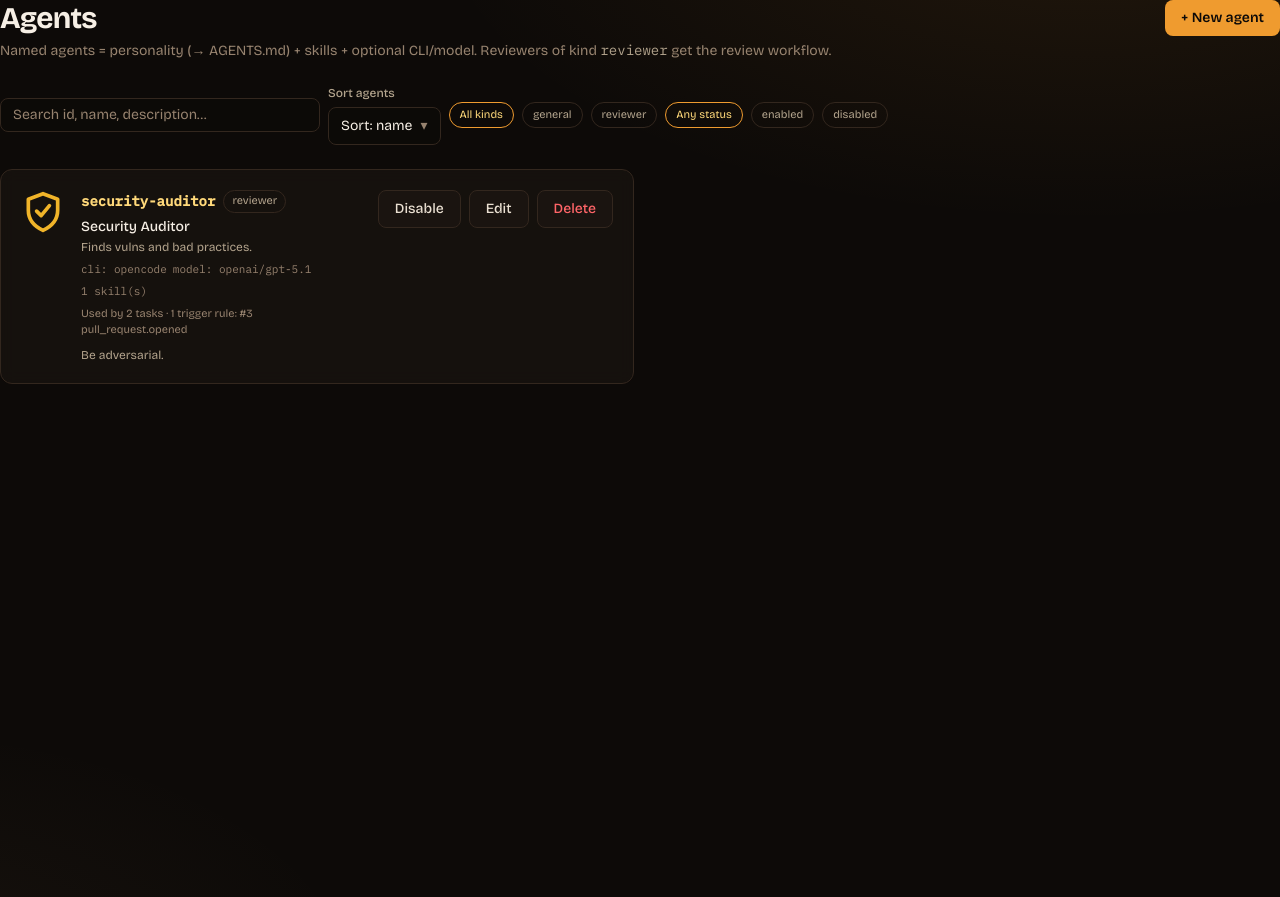
Test: Agents › refetches the Model dropdown when the CLI override changes
Expected: the text "security-auditor" is shown, [81,191,215,211]
Click the button "+ New agent".
click(1223, 18)  # box [1165,0,1279,36]
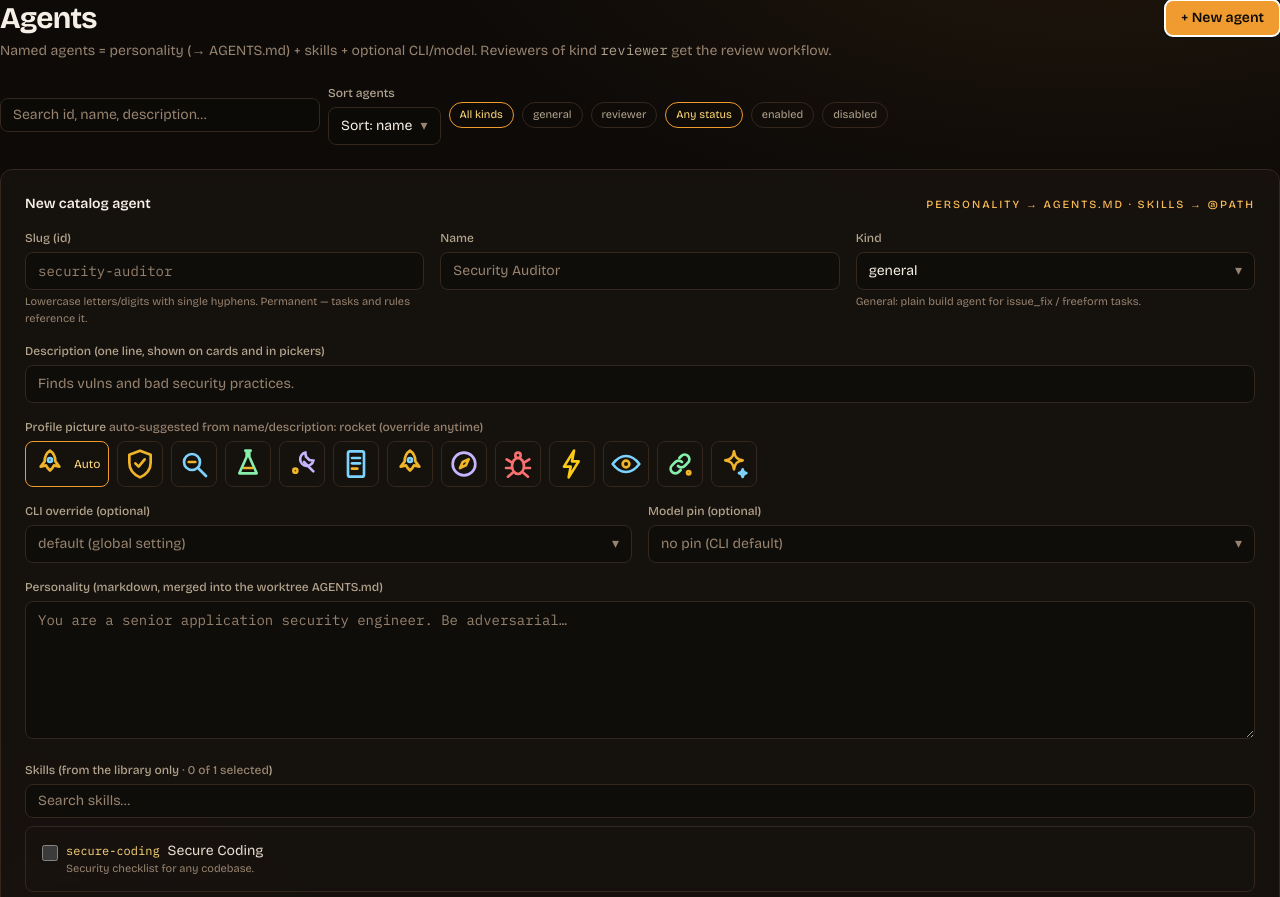
Click the button with aria-label "Model pin (optional)".
click(722, 544)  # box [648,525,1255,563]
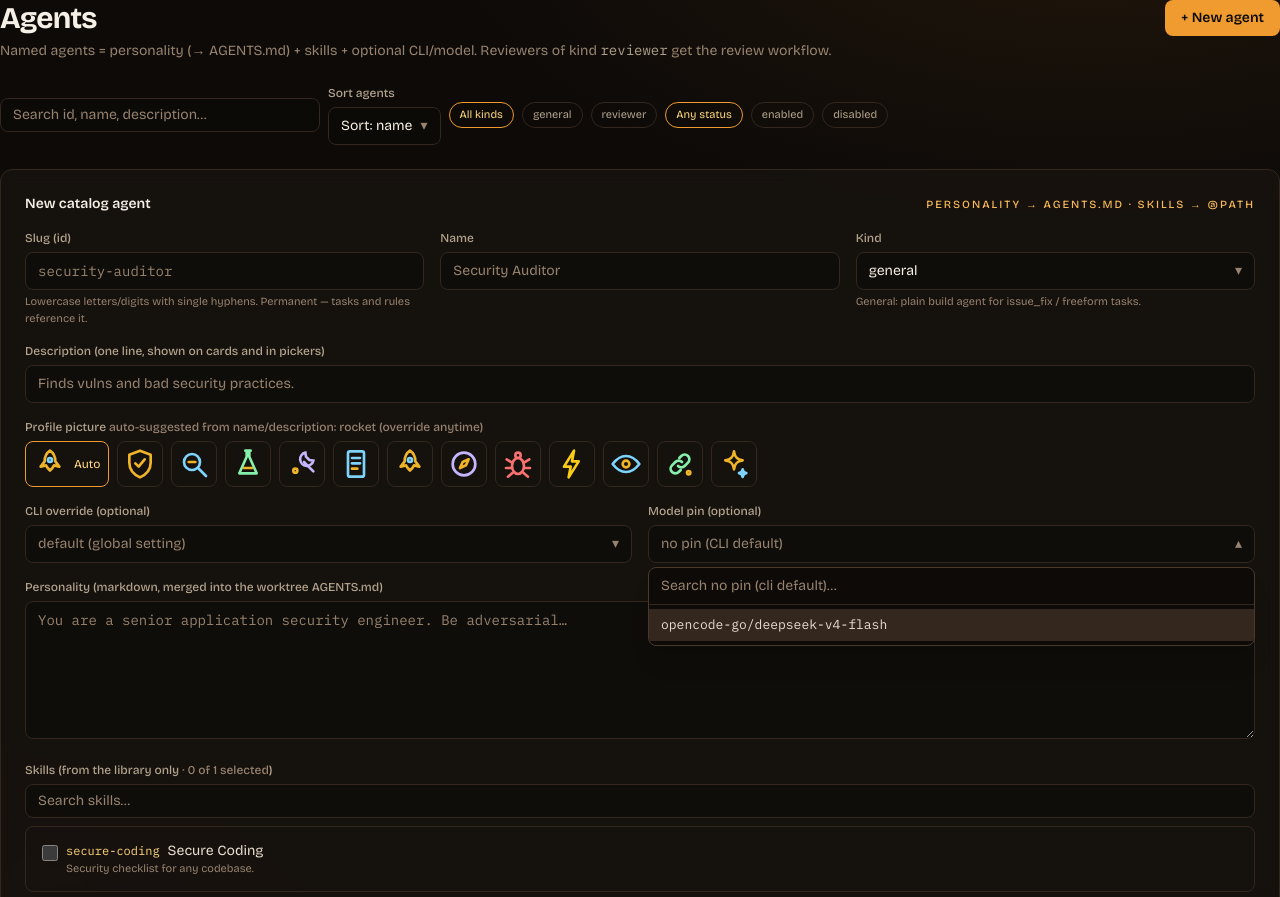
Result: the option "opencode-go/deepseek-v4-flash" is shown at [649,609,1254,640]
Click the button with aria-label "CLI override (optional)".
click(112, 544)  # box [25,525,632,563]
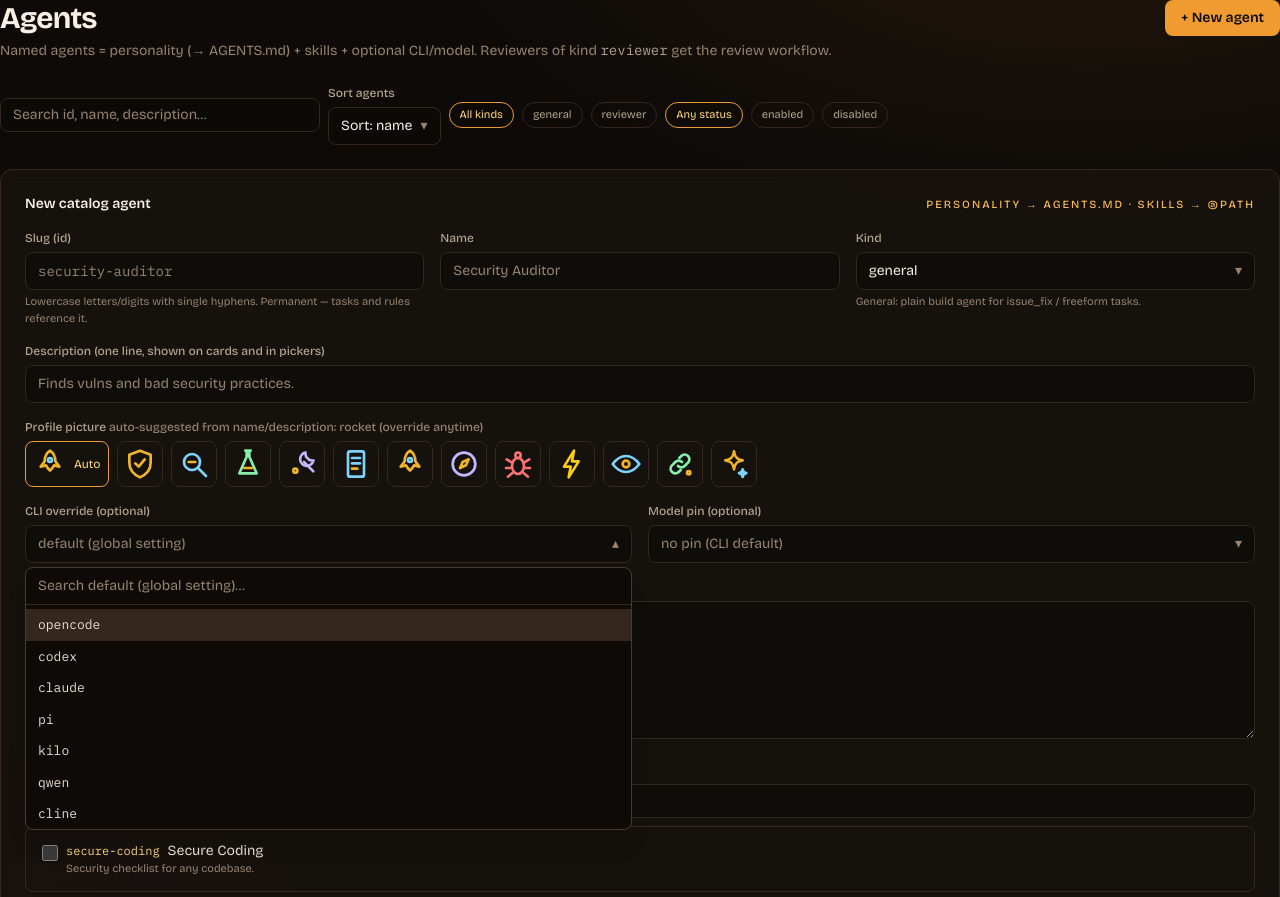
Type "codex" into the dropdown.
click(328, 586); type("codex")  # box [26,568,631,605]
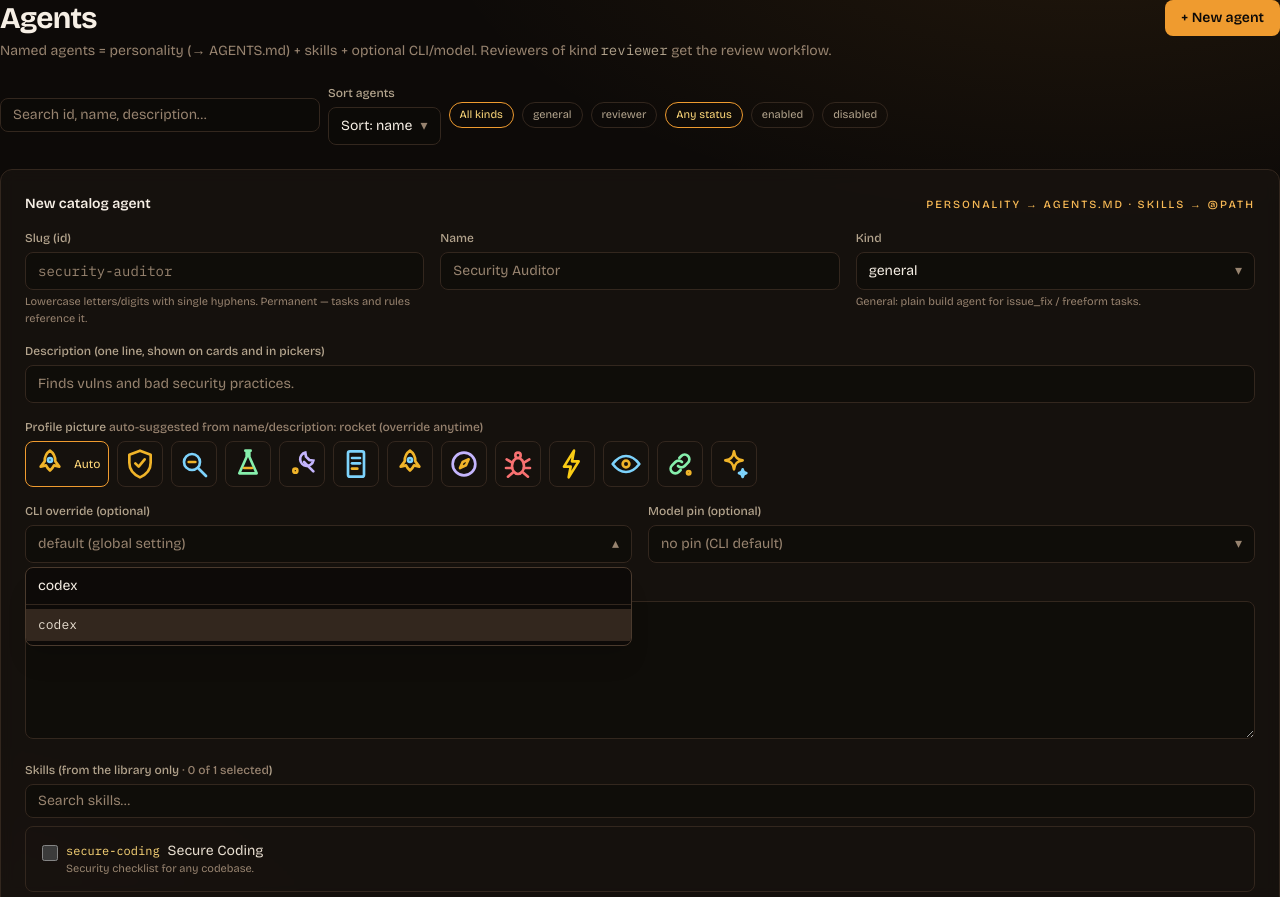
Click the option "codex".
click(58, 624)  # box [26,609,631,640]
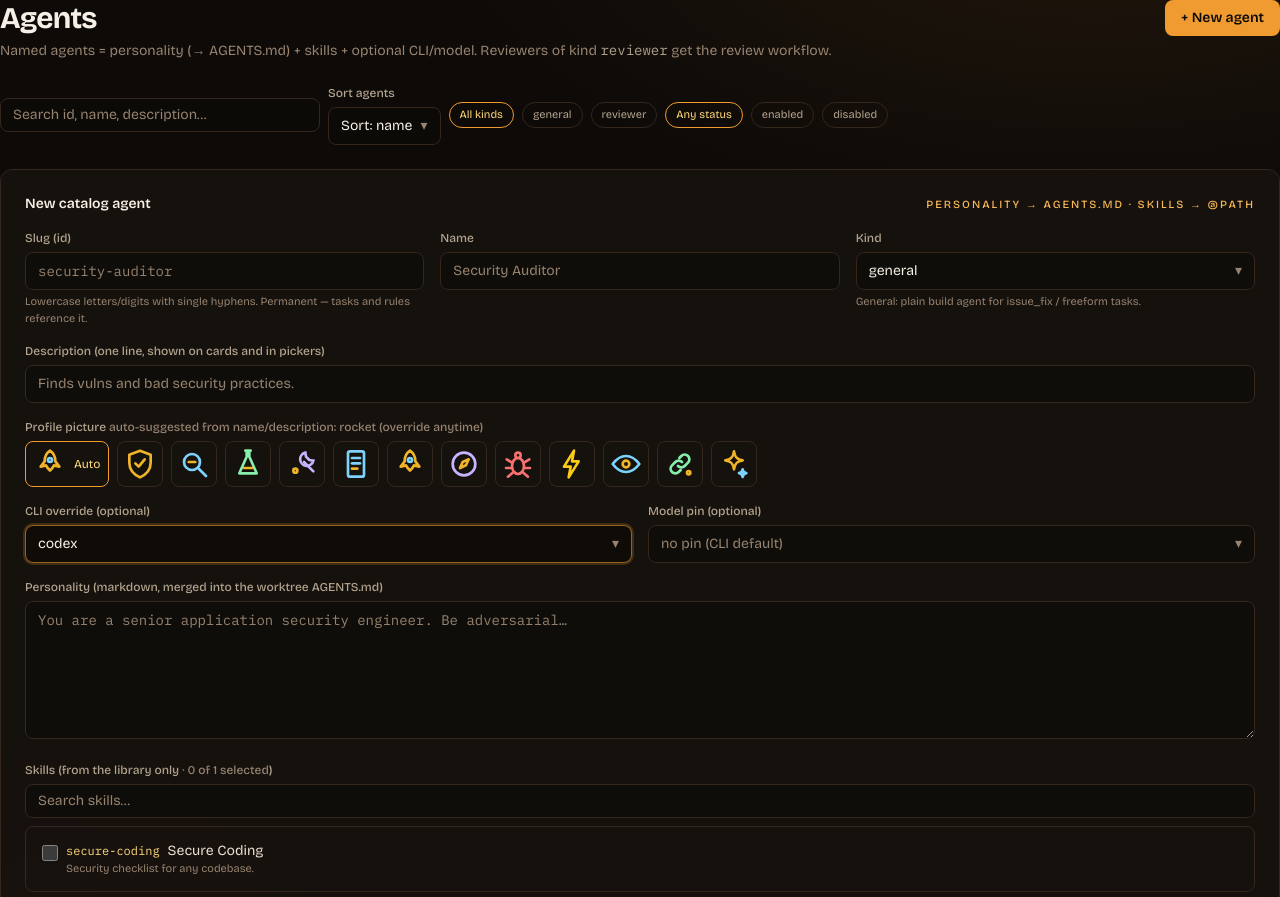
Click the button with aria-label "Model pin (optional)".
click(722, 544)  # box [648,525,1255,563]
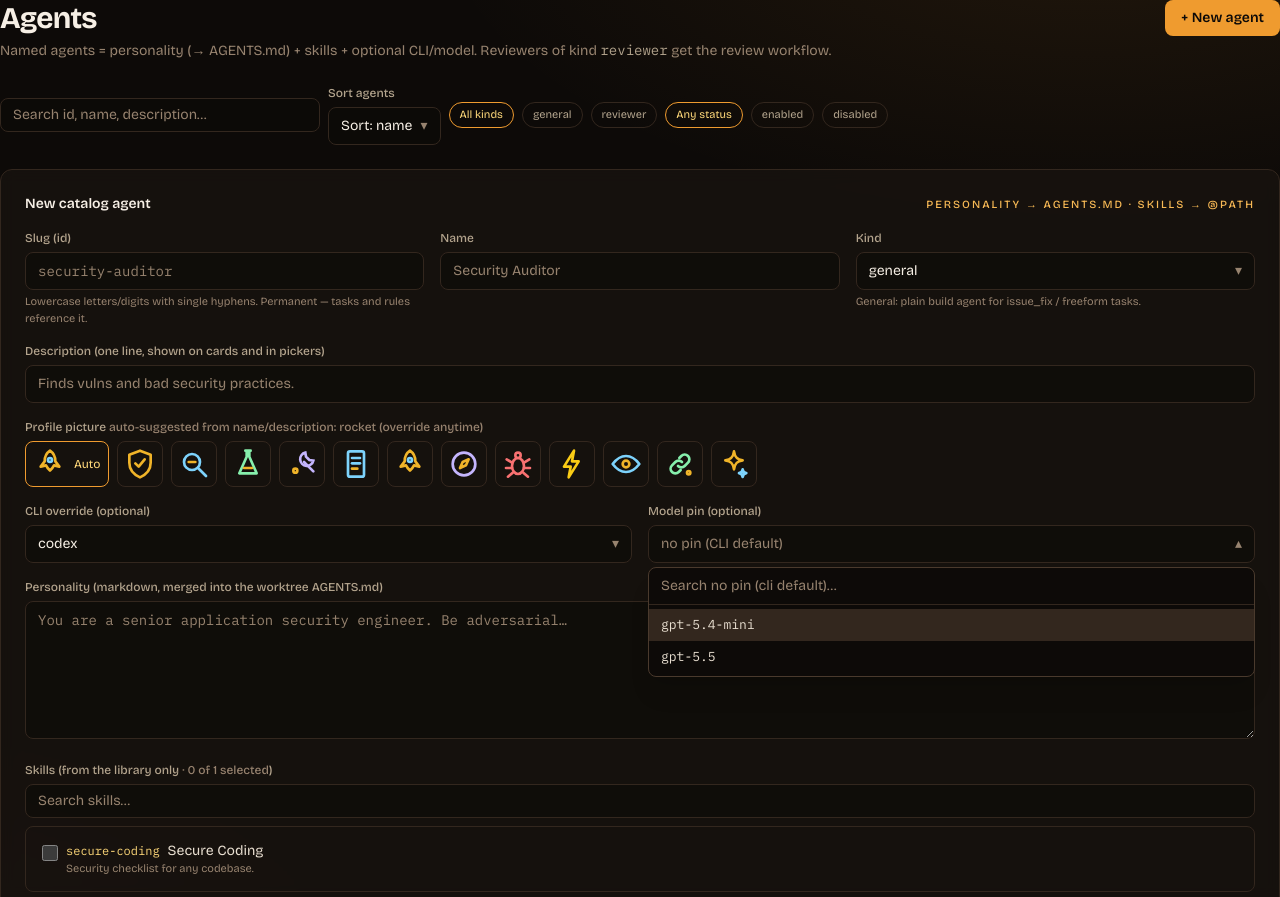
Result: the option "gpt-5.4-mini" is shown at [649,609,1254,640]
